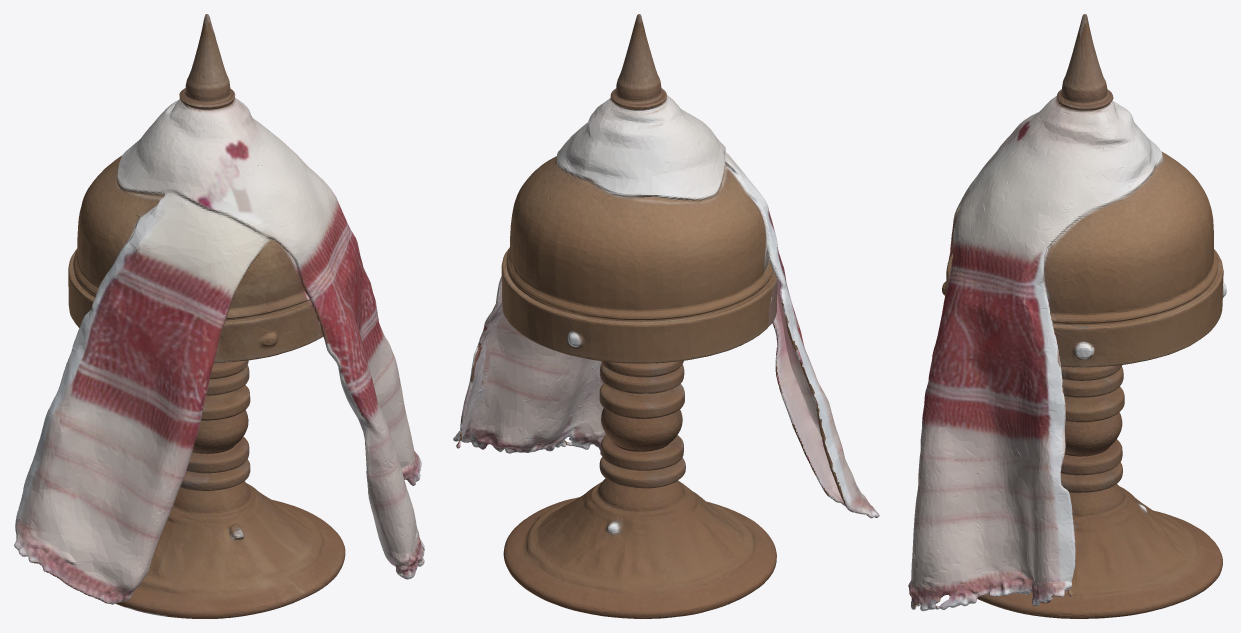
Rendered from xorai.glb.
3 views of the same model, side by side, from view 1: azimuth 30°, elevation 25°; view 2: azimuth 150°, elevation 25°; view 3: azimuth 270°, elevation 25° (orthographic).
Parts seen in each view (by area): view 1: world; view 2: world; view 3: world.
Boxes of the visible parts, x1=… form: world: x1=14, y1=14, x2=424, y2=618; world: x1=453, y1=14, x2=879, y2=618; world: x1=908, y1=14, x2=1226, y2=618.
Size of the model in its own units: 1.56 by 1.99 by 1.04.
Materials: 1 (1 with a texture image).
